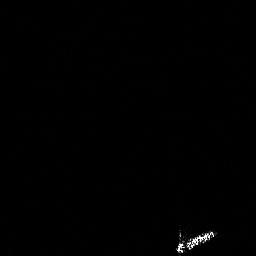ship: (173, 224, 217, 256)
